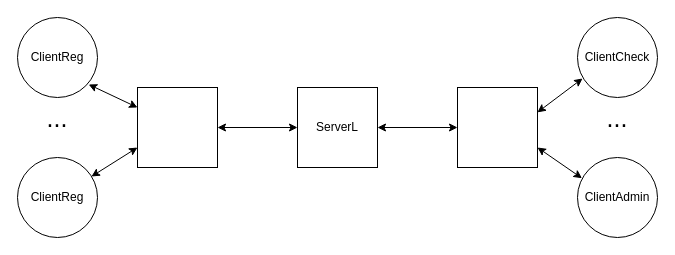
Image size: 675x255. Some labels were removed from this diagram. The shapes that lost their labels are listed below. From the top down, each one's centre as x and y in pixels, then its label:
At (177,127): "Portale".
At (497,127): "ServerG".
